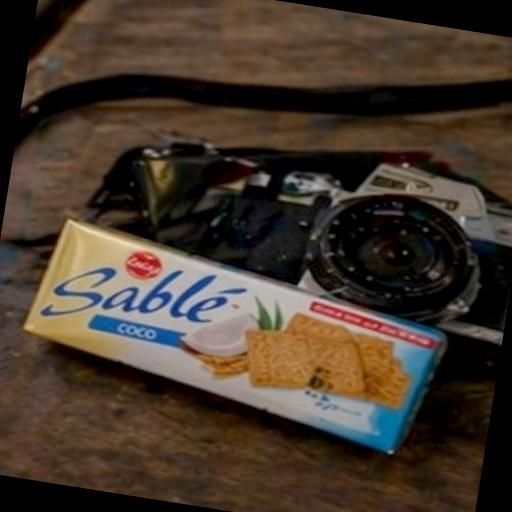sabl: (0, 138, 512, 508)
